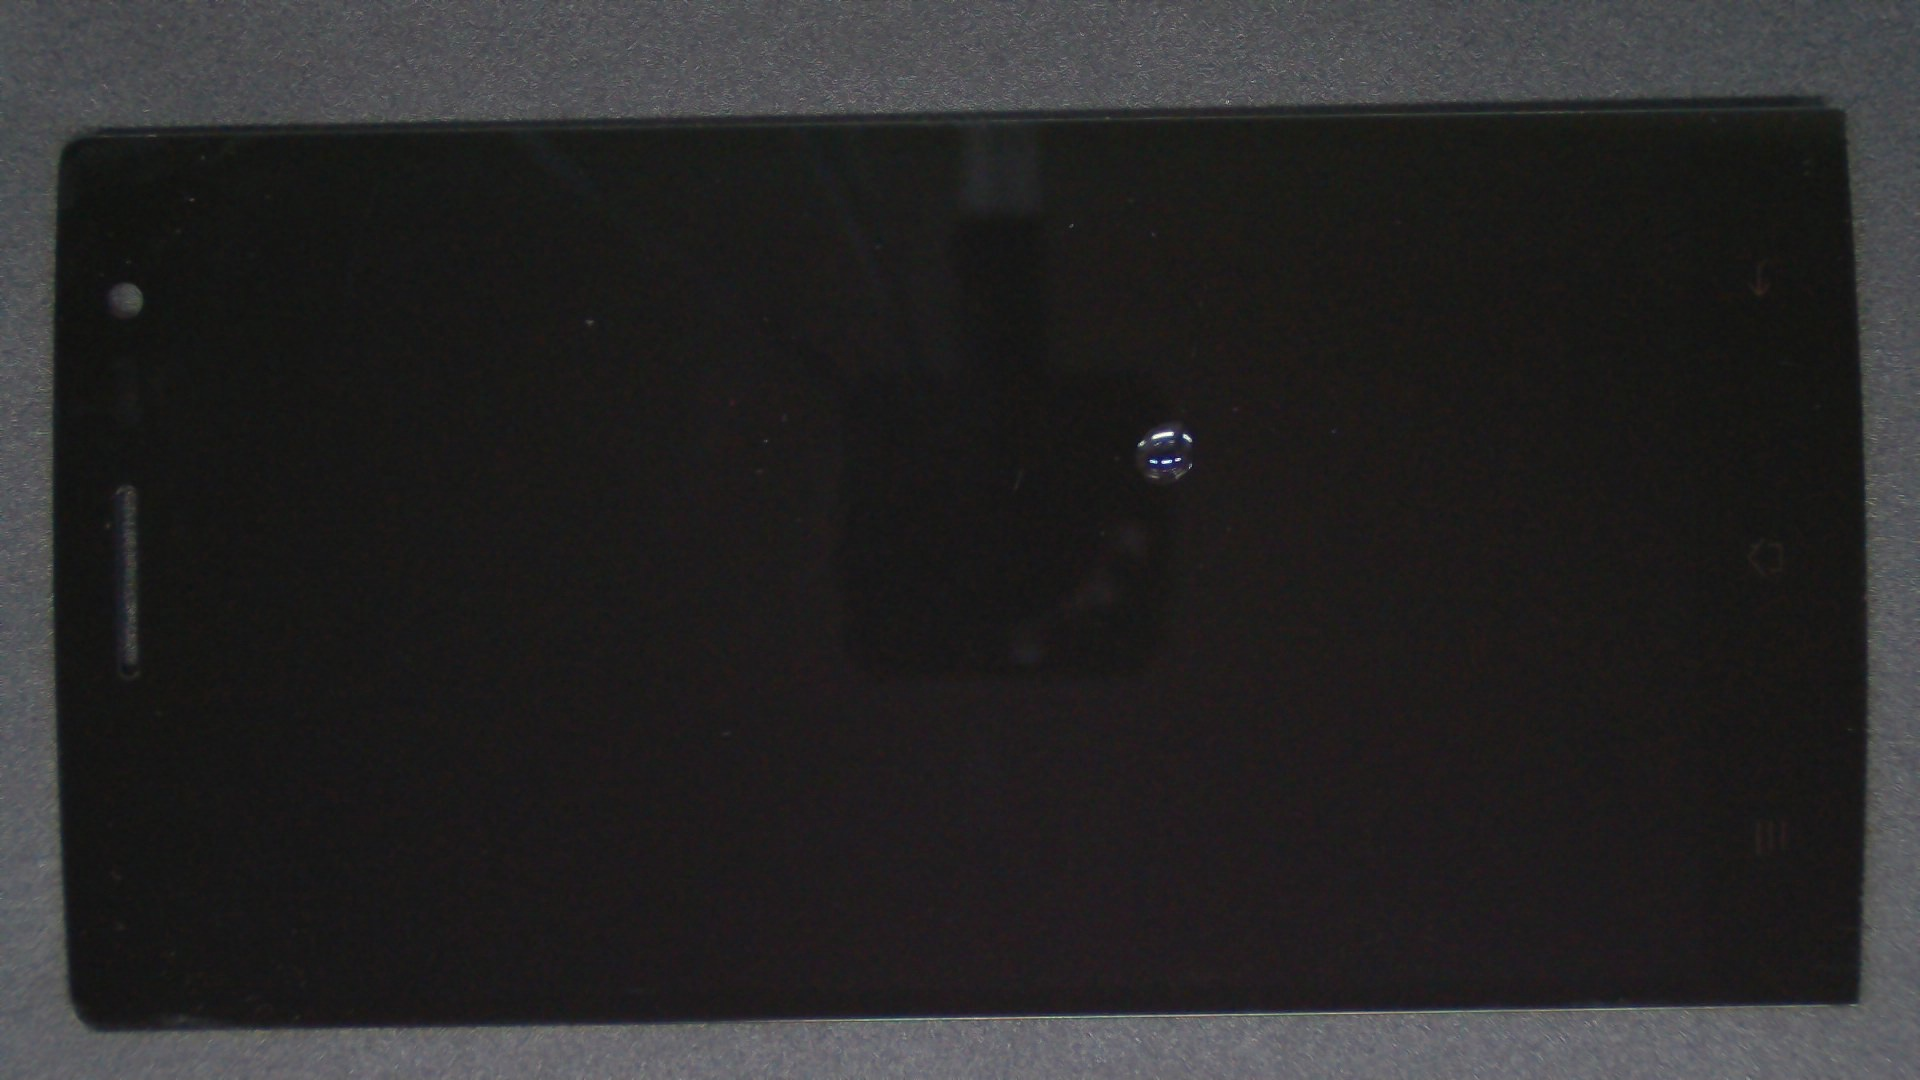oil: (588, 210, 1762, 632)
